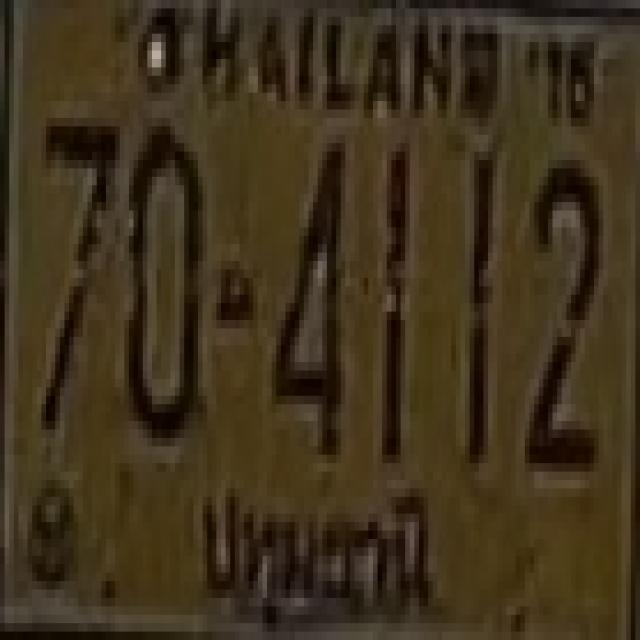0: (122, 118, 200, 438)
1: (380, 143, 407, 455), (468, 147, 490, 459)
2: (525, 152, 598, 463)
4: (274, 135, 343, 446)
7: (42, 118, 115, 429)
PTE: (195, 471, 446, 633)
